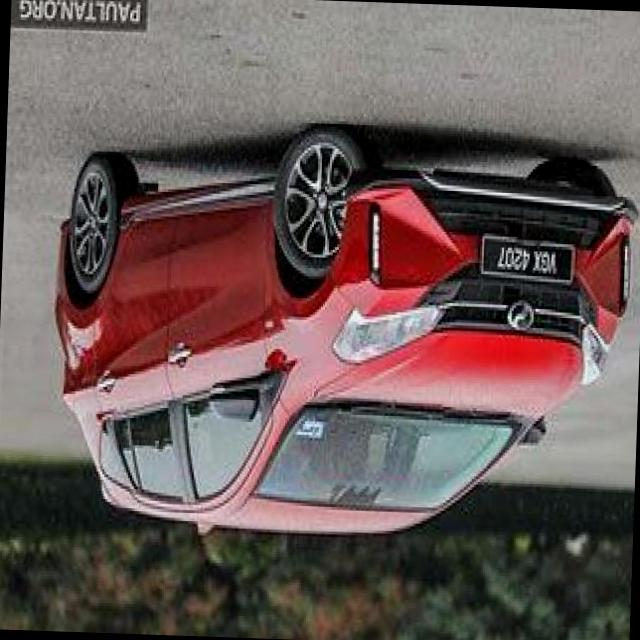PeroduaAxia: (44, 116, 640, 552)
